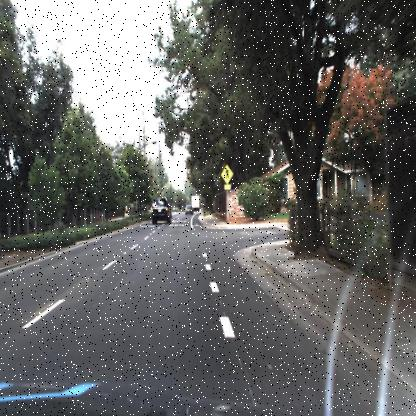car: (149, 196, 173, 226), (191, 194, 201, 211), (182, 202, 194, 216)
truck: (188, 192, 201, 218)
